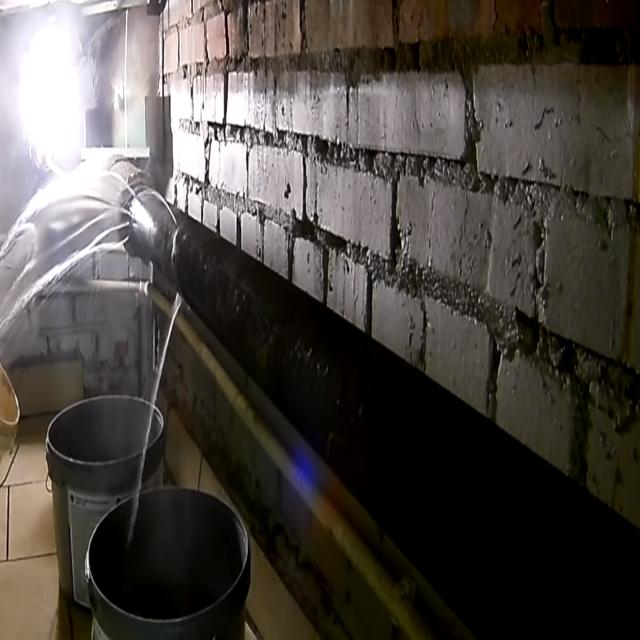leak: (0, 163, 139, 342), (128, 293, 182, 541)
